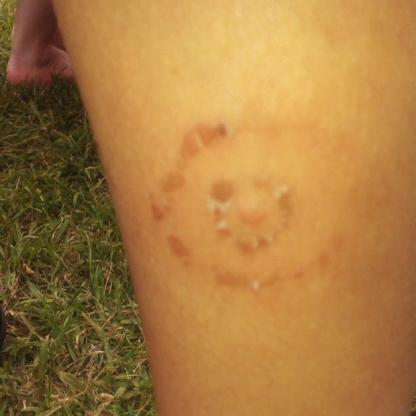Tick: (144, 112, 383, 294)
